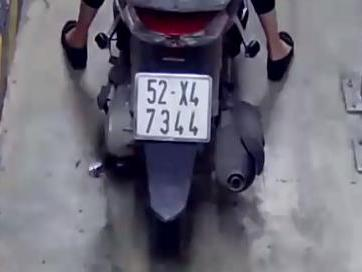num_plate: (132, 71, 210, 142)
